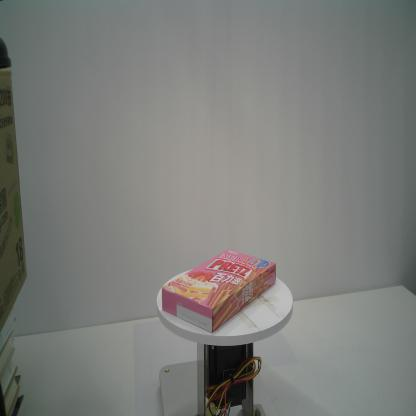Dessert: (162, 248, 276, 334)
